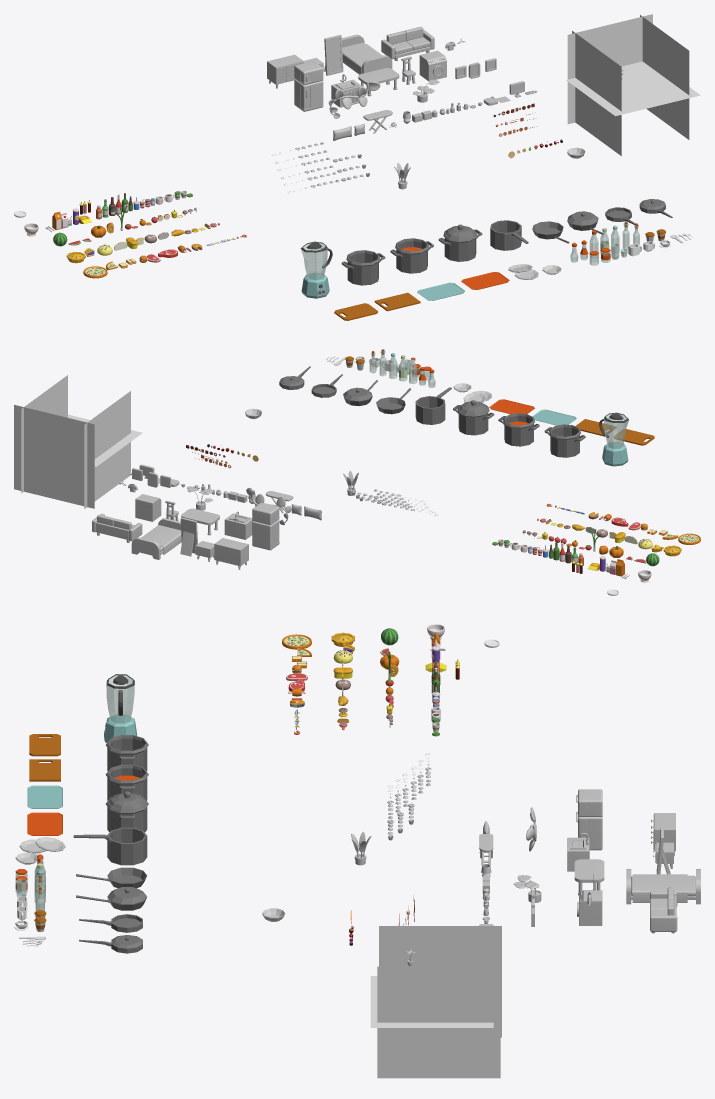
File: botellas.fbx
3 views of the same model, one above another, from view 1: azimuth 30°, elevation 25°; view 2: azimuth 150°, elevation 25°; view 3: azimuth 270°, elevation 25° (orthographic). The views are drawn at different scales.
Visible parts, largest first — view 1: Plane.002, Plane.001, Plane.003, Plane, Fridge, Cylinder, Bed, Couch, Cylinder.005, Cylinder.004, Cylinder.008, Cabinet_2 (+10 smaller); view 2: Plane.003, Plane.002, Bed, Plane.001, Fridge, Cylinder, Cylinder.005, Cylinder.004, Couch, Cylinder.008, Cabinet_2, Cylinder.006 (+9 smaller); view 3: Plane.001, Plane.002, Bed, Cylinder, Cylinder.008, Fridge, Cylinder.004, Couch, Cylinder.005, Plane, Cylinder.006, Washing_Machine (+6 smaller).
Boxes of the visible parts, x1,y1,x2,y2 form: Plane.002: (572,31,621,155); Plane.001: (640,15,689,139); Plane.003: (567,14,652,124); Plane: (566,61,700,116); Fridge: (294,61,323,111); Cylinder: (300,241,329,298); Bed: (342,34,392,74); Couch: (381,26,434,60); Cylinder.005: (395,238,429,273); Cylinder.004: (346,250,380,285); Cylinder.008: (490,220,528,250); Cabinet_2: (267,54,303,88); Plane.003: (14,405,94,508); Plane.002: (84,391,130,508); Bed: (131,518,181,559); Plane.001: (21,375,67,493); Fridge: (252,502,279,550); Cylinder: (602,412,628,466); Cylinder.005: (503,413,534,446); Cylinder.004: (549,424,580,457); Couch: (92,513,142,542); Cylinder.008: (415,387,451,424); Cabinet_2: (214,538,248,569); Cylinder.006: (457,404,489,435); Plane.001: (377,966,500,1078); Plane.002: (379,926,501,1037); Bed: (626,869,700,904); Cylinder: (104,674,137,742); Cylinder.008: (73,827,147,865); Fridge: (576,789,602,850); Cylinder.004: (106,735,148,771); Couch: (650,887,677,933); Cylinder.005: (105,764,148,800); Plane: (370,976,493,1027); Cylinder.006: (105,796,148,832); Washing_Machine: (577,890,602,925).
Bounding box in the file's own units: 12949 × 1702 × 9490.
